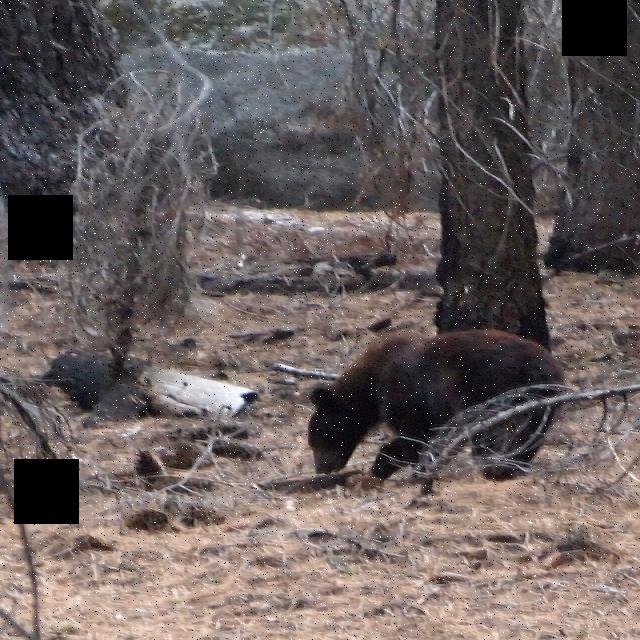Bear: (279, 327, 564, 485)
